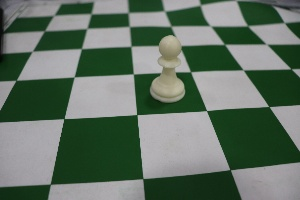white_pawn: (137, 28, 194, 114)
